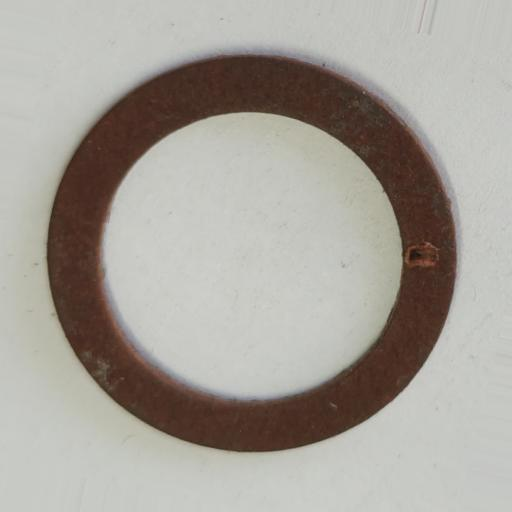defect: (403, 241, 441, 268)
